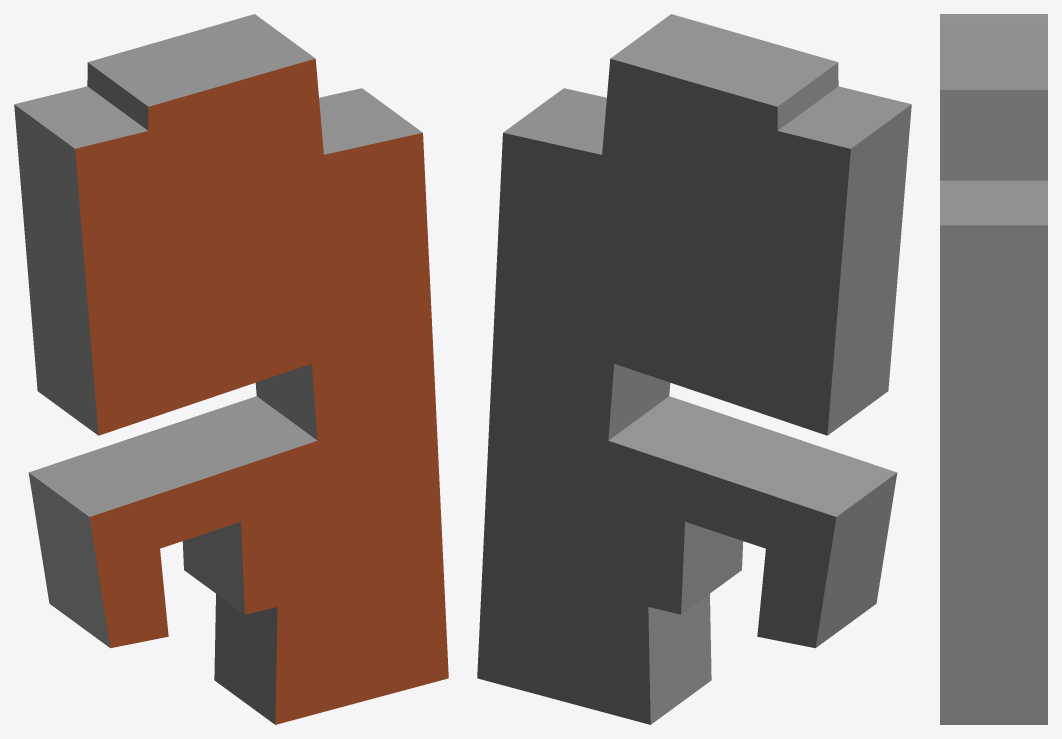
The model's file is construction_2317_assumed_A_Casa_h6m.obj.
3 renders of one model, left to right at view 1: azimuth 30°, elevation 25°; view 2: azimuth 150°, elevation 25°; view 3: azimuth 270°, elevation 25°, orthographic. The views are drawn at different scales.
Parts seen in each view (by area): view 1: construction_2317_assumed_A_Casa; view 2: construction_2317_assumed_A_Casa; view 3: construction_2317_assumed_A_Casa.
Boxes of the visible parts, x1,y1,x2,y2 form: construction_2317_assumed_A_Casa: (14,14,448,724); construction_2317_assumed_A_Casa: (477,14,911,724); construction_2317_assumed_A_Casa: (940,14,1047,724).
Bounding box in the file's own units: 21.23 × 35.65 × 6.
